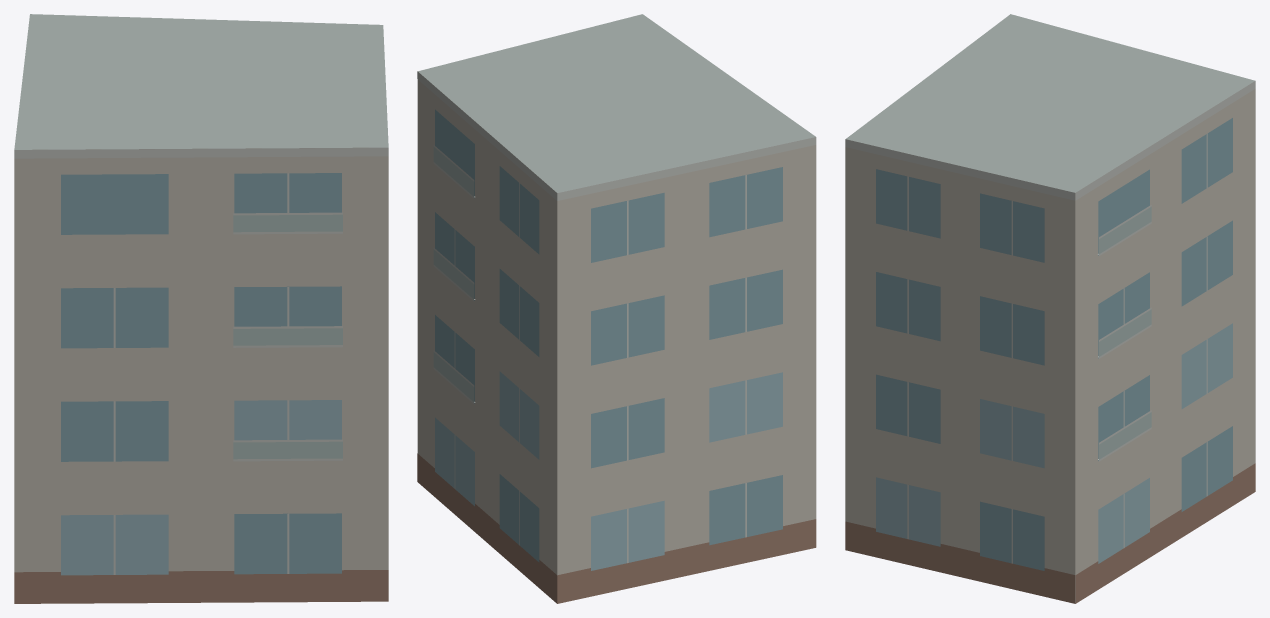
File: survey-upis-32840139.glb
The picture shows the model from 3 angles, left to right: view 1: azimuth 30°, elevation 25°; view 2: azimuth 150°, elevation 25°; view 3: azimuth 270°, elevation 25°; orthographic projection. The views are drawn at different scales.
Parts seen in each view (by area): view 1: survey-upis-32840139.tmp; view 2: survey-upis-32840139.tmp; view 3: survey-upis-32840139.tmp.
Part boxes in pixels (x1,y1,x2,y2): survey-upis-32840139.tmp: (14,14,388,603); survey-upis-32840139.tmp: (417,14,816,603); survey-upis-32840139.tmp: (845,14,1255,603).
Bounding box in the file's own units: 11.86 × 12.7 × 11.49.
